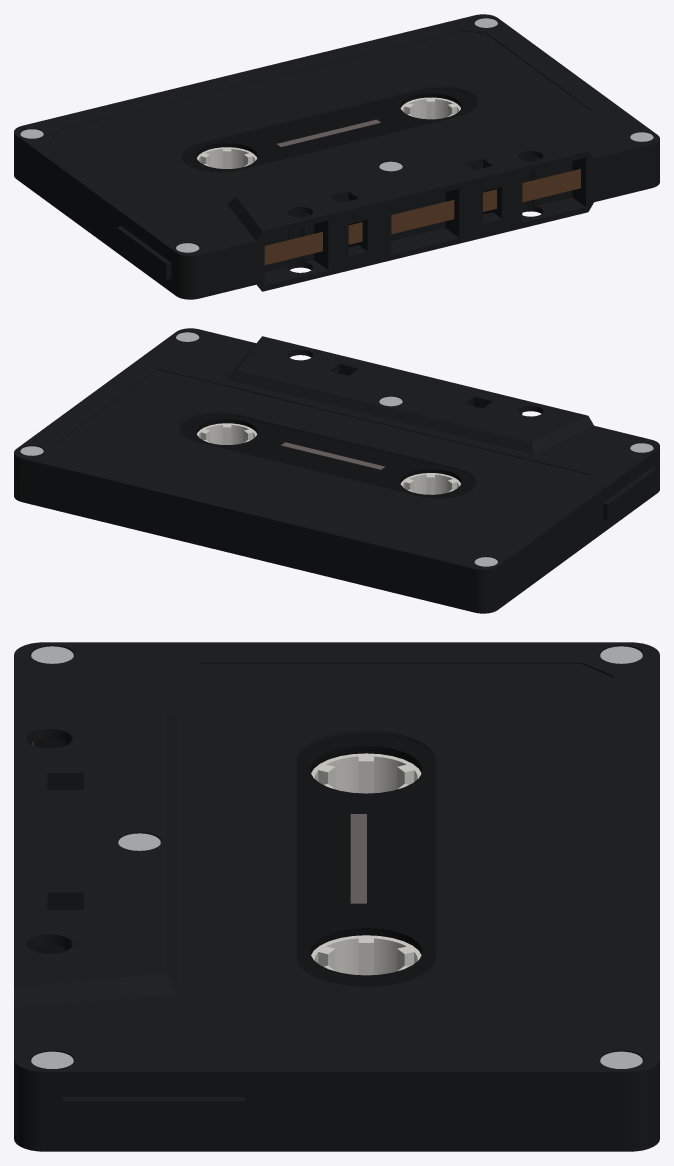
Rendered from sound_on_sound_c15.glb.
The picture shows the model from 3 angles, top to bottom: view 1: azimuth 30°, elevation 25°; view 2: azimuth 150°, elevation 25°; view 3: azimuth 270°, elevation 25°; orthographic projection. The views are drawn at different scales.
Parts seen in each view (by area): view 1: shell, label, window, front-tape, right-hub, left-hub, screws, window-bar; view 2: shell, label, window, left-hub, right-hub, screws, window-bar; view 3: shell, label, window, left-hub, right-hub, screws, window-bar.
Boxes of the visible parts, x1,y1,x2,y2 form: shell: (14,14,659,299); label: (53,31,589,215); window: (181,88,478,172); front-tape: (264,169,580,265); right-hub: (400,97,460,119); left-hub: (197,147,257,168); screws: (20,18,653,252); window-bar: (277,119,380,146); shell: (14,328,659,613); label: (53,369,590,553); window: (179,413,476,498); left-hub: (400,473,460,494); right-hub: (197,423,256,444); screws: (20,332,653,566); window-bar: (281,442,384,469); shell: (14,642,659,1151); label: (200,664,612,1050); window: (297,733,436,986); left-hub: (311,753,421,793); right-hub: (311,935,421,975); screws: (31,646,642,1068); window-bar: (350,814,366,903).
Size of the model in its own units: 0.1024 by 0.0121 by 0.0638.
